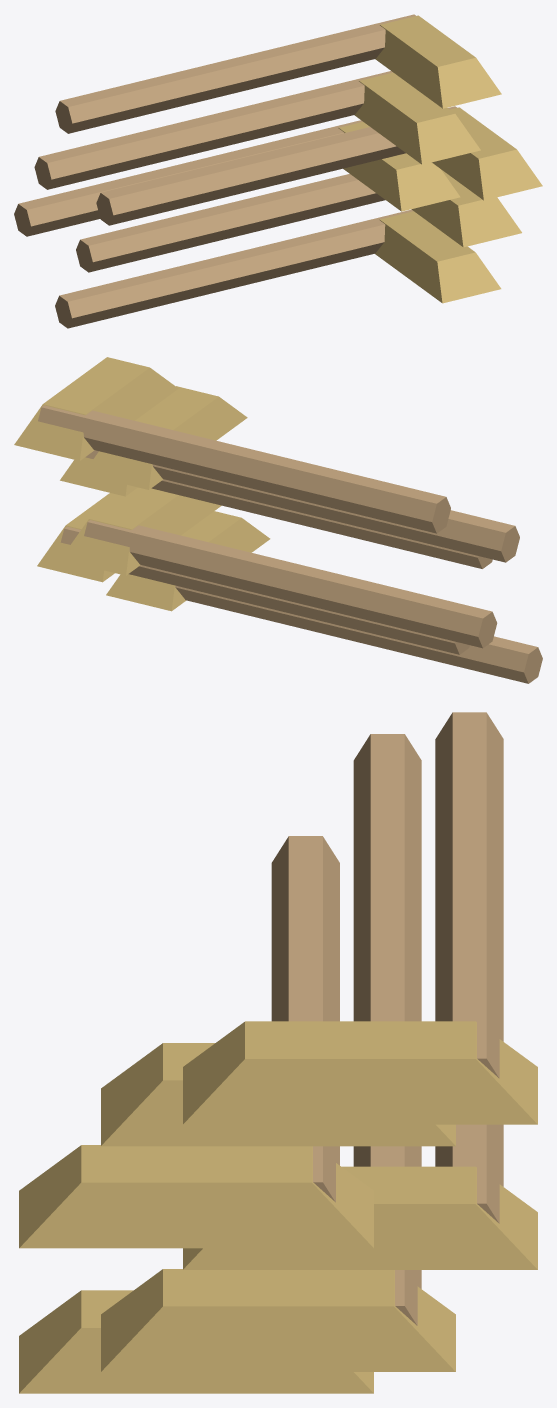
File: item_085_bronze_hoe_l.glb
3 views of the same model, one above another, from view 1: azimuth 30°, elevation 25°; view 2: azimuth 150°, elevation 25°; view 3: azimuth 270°, elevation 25° (orthographic). The views are drawn at different scales.
Visible parts, largest first — view 1: item_085_bronze_hoe_l; view 2: item_085_bronze_hoe_l; view 3: item_085_bronze_hoe_l.
Boxes of the visible parts, x1,y1,x2,y2 form: item_085_bronze_hoe_l: (14,14,542,328); item_085_bronze_hoe_l: (14,357,542,683); item_085_bronze_hoe_l: (19,712,537,1393).
Bounding box in the file's own units: 0.69 × 0.295 × 0.38.
